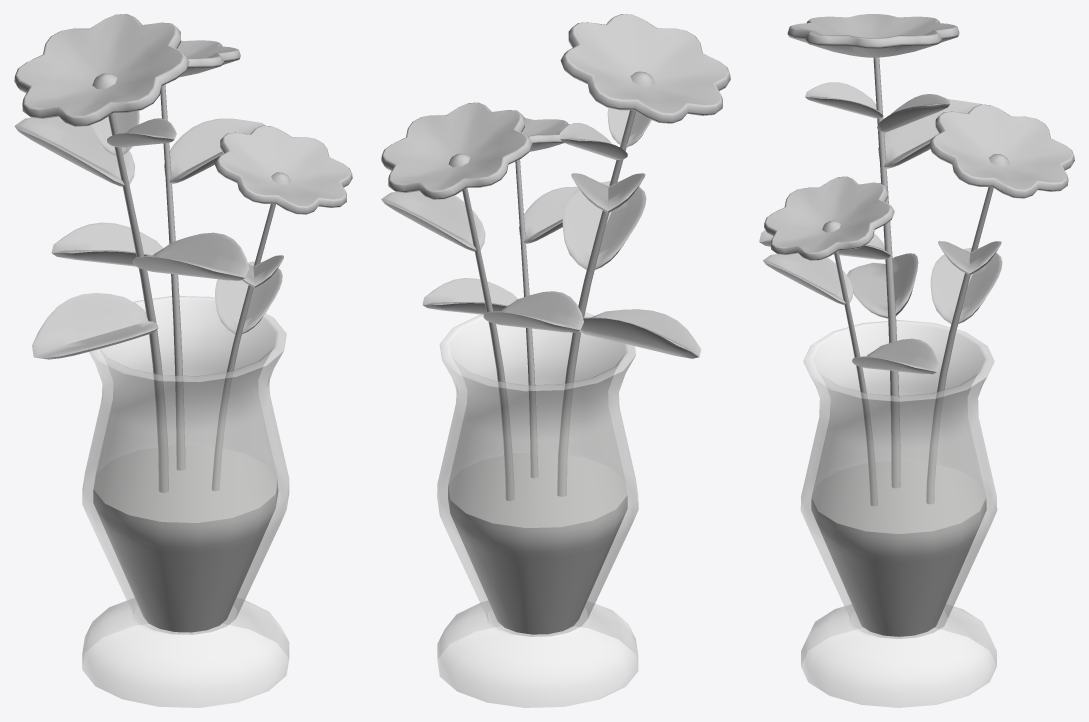
File: Vase_with_Flowers_7.fbx
3 views of the same model, side by side, from view 1: azimuth 30°, elevation 25°; view 2: azimuth 150°, elevation 25°; view 3: azimuth 270°, elevation 25° (orthographic). The views are drawn at different scales.
Parts seen in each view (by area): view 1: Vase_with_Flowers_7; view 2: Vase_with_Flowers_7; view 3: Vase_with_Flowers_7.
Boxes of the visible parts, x1,y1,x2,y2 form: Vase_with_Flowers_7: (14,14,352,707); Vase_with_Flowers_7: (381,14,730,707); Vase_with_Flowers_7: (759,14,1074,707).
Bounding box in the file's own units: 26.49 × 56.42 × 26.05.
